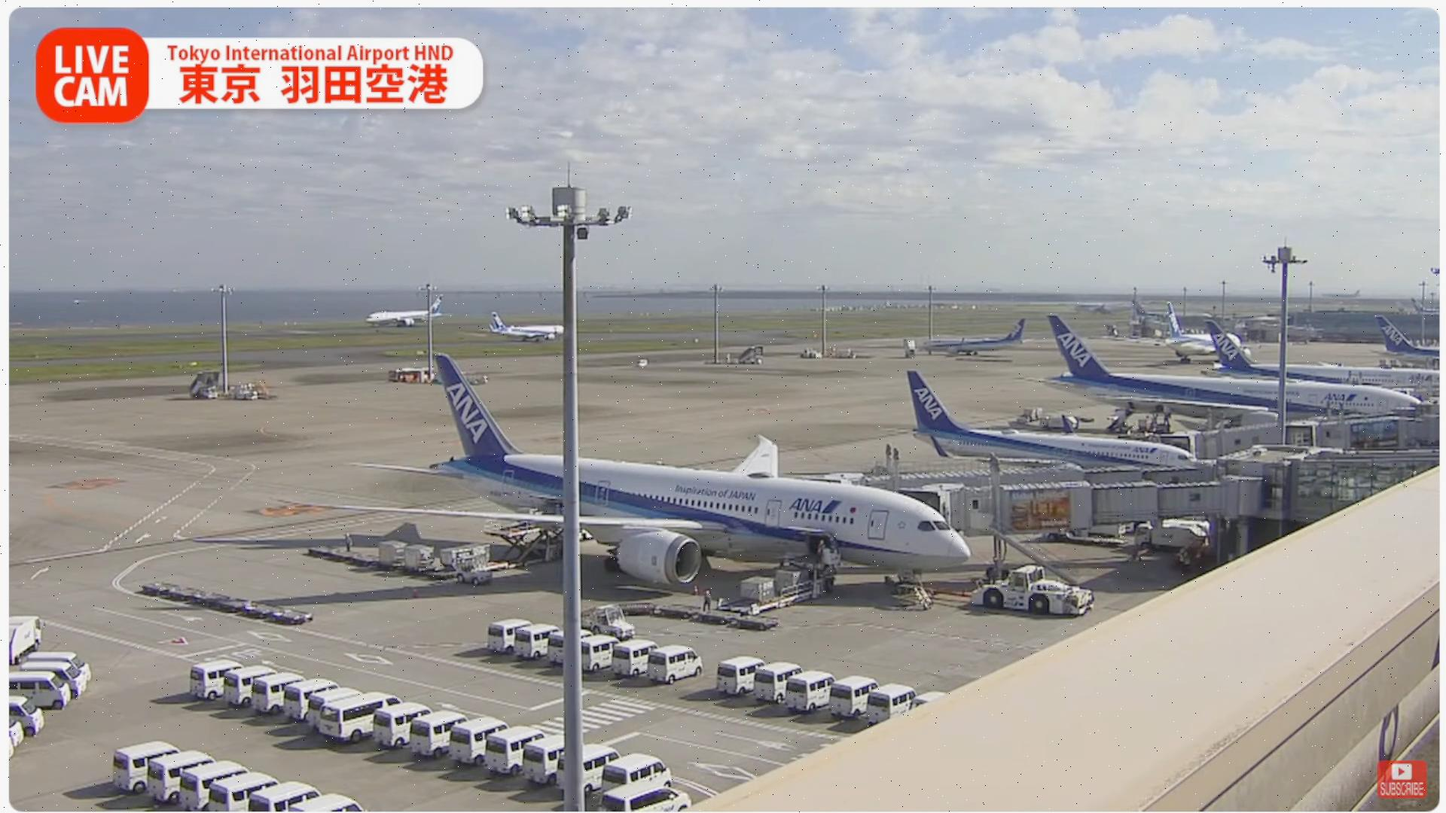APS: (969, 564, 1106, 619)
Aerobridge: (899, 476, 1264, 540), (843, 457, 1217, 496)
Airplane: (330, 354, 973, 599)
Dolly: (616, 580, 782, 636), (143, 579, 315, 626), (306, 524, 455, 578)
JCPL: (712, 552, 839, 616), (450, 522, 565, 575)
Tractor: (592, 600, 637, 642), (454, 553, 493, 585)
Window: (1290, 456, 1440, 523)
